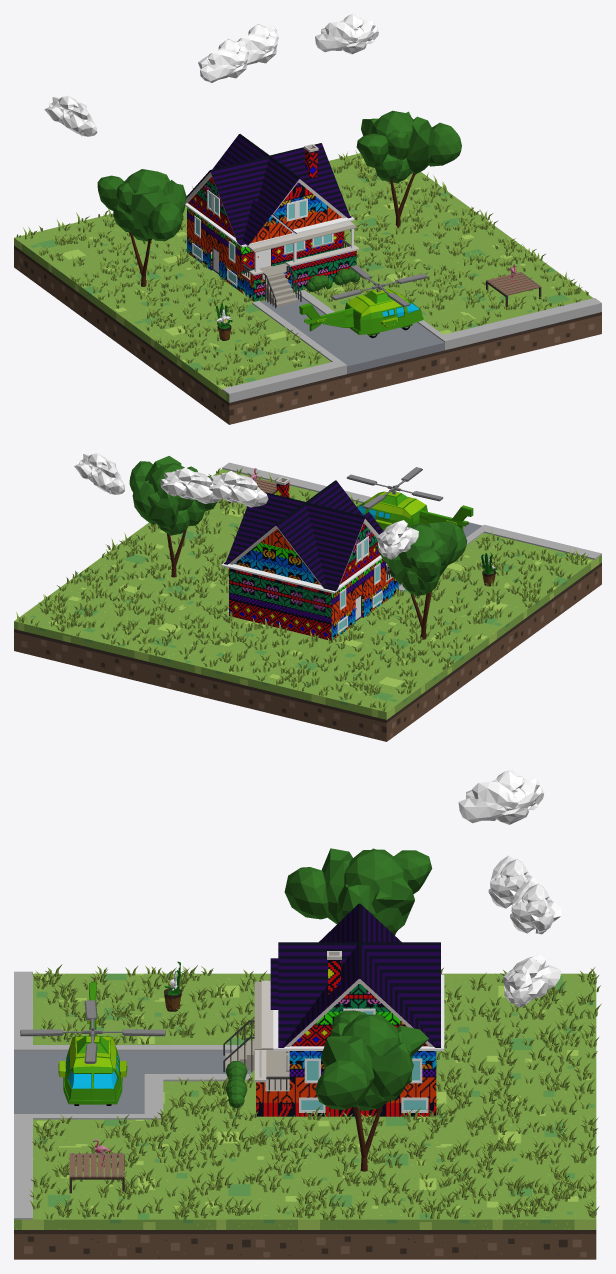
3 renders of one model, top to bottom at view 1: azimuth 30°, elevation 25°; view 2: azimuth 150°, elevation 25°; view 3: azimuth 270°, elevation 25°, orthographic. The views are drawn at different scales.
Parts seen in each view (by area): view 1: Cube.006, Cube.966, Circle.012_Grass_0.192, Cube.007, tree, tree.001, VEHICLES_HELICOPTER, Cube.009; view 2: Cube.006, Cube.966, Circle.012_Grass_0.192, Cube.007, tree.001, tree, VEHICLES_HELICOPTER; view 3: Cube.006, Circle.012_Grass_0.192, Cube.966, tree, Cube.007, tree.001, VEHICLES_HELICOPTER, Cube.009.
Boxes of the visible parts, bbox=[...] form: Cube.006: bbox=[14, 153, 601, 424]; Cube.966: bbox=[185, 134, 359, 308]; Circle.012_Grass_0.192: bbox=[16, 150, 588, 386]; Cube.007: bbox=[44, 14, 378, 136]; tree: bbox=[356, 110, 461, 228]; tree.001: bbox=[97, 169, 186, 286]; VEHICLES_HELICOPTER: bbox=[299, 265, 427, 338]; Cube.009: bbox=[486, 272, 541, 306]; Cube.006: bbox=[14, 462, 601, 741]; Cube.966: bbox=[221, 477, 398, 640]; Circle.012_Grass_0.192: bbox=[16, 468, 588, 711]; Cube.007: bbox=[74, 453, 418, 559]; tree.001: bbox=[375, 521, 467, 639]; tree: bbox=[129, 456, 216, 577]; VEHICLES_HELICOPTER: bbox=[346, 467, 473, 530]; Cube.006: bbox=[14, 971, 596, 1259]; Circle.012_Grass_0.192: bbox=[29, 964, 601, 1220]; Cube.966: bbox=[223, 903, 444, 1116]; tree: bbox=[315, 1010, 428, 1171]; Cube.007: bbox=[458, 770, 561, 1007]; tree.001: bbox=[284, 848, 432, 935]; VEHICLES_HELICOPTER: bbox=[20, 982, 165, 1105]; Cube.009: bbox=[69, 1153, 124, 1193].
Bounding box in the file's own units: 4071 × 2179 × 4040.
41 materials, 7 textured.
